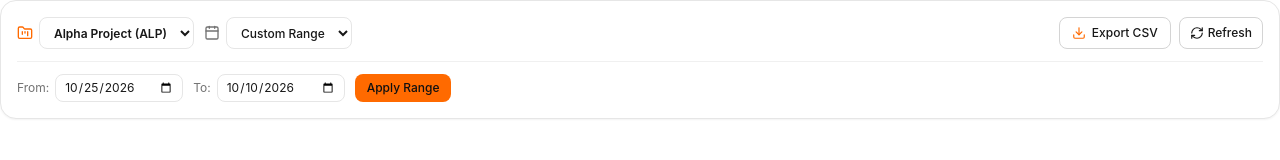
Scenario: ReportsFilterBar › validates contradictory custom date range (start after end)
Click the button "Apply Range".
click(403, 88)  # box [355,74,452,102]
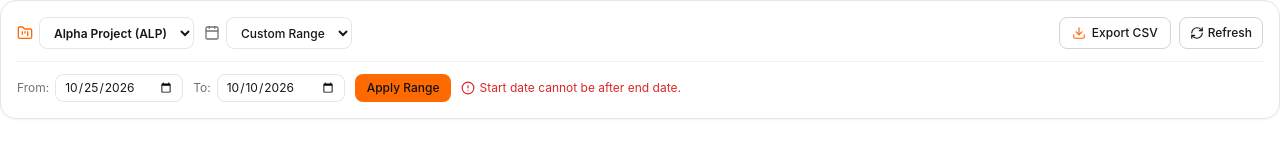
Expected: the text "Start date cannot be after end date." is shown, [480,80,681,96]
